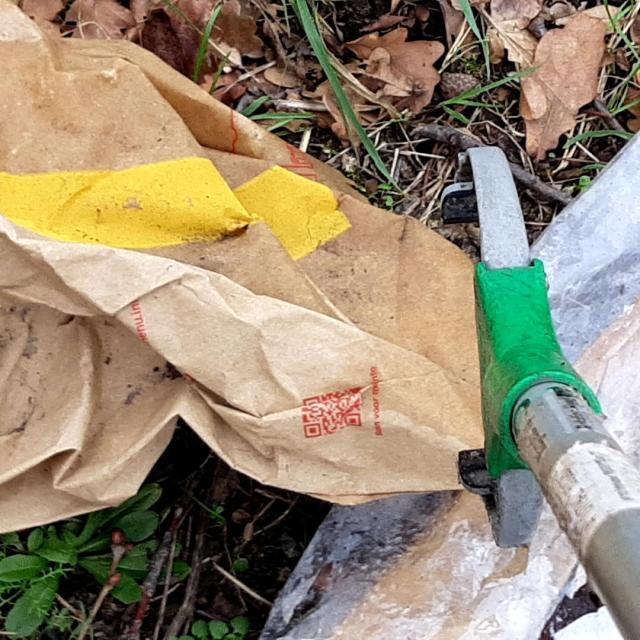Paper: (0, 0, 486, 533)
